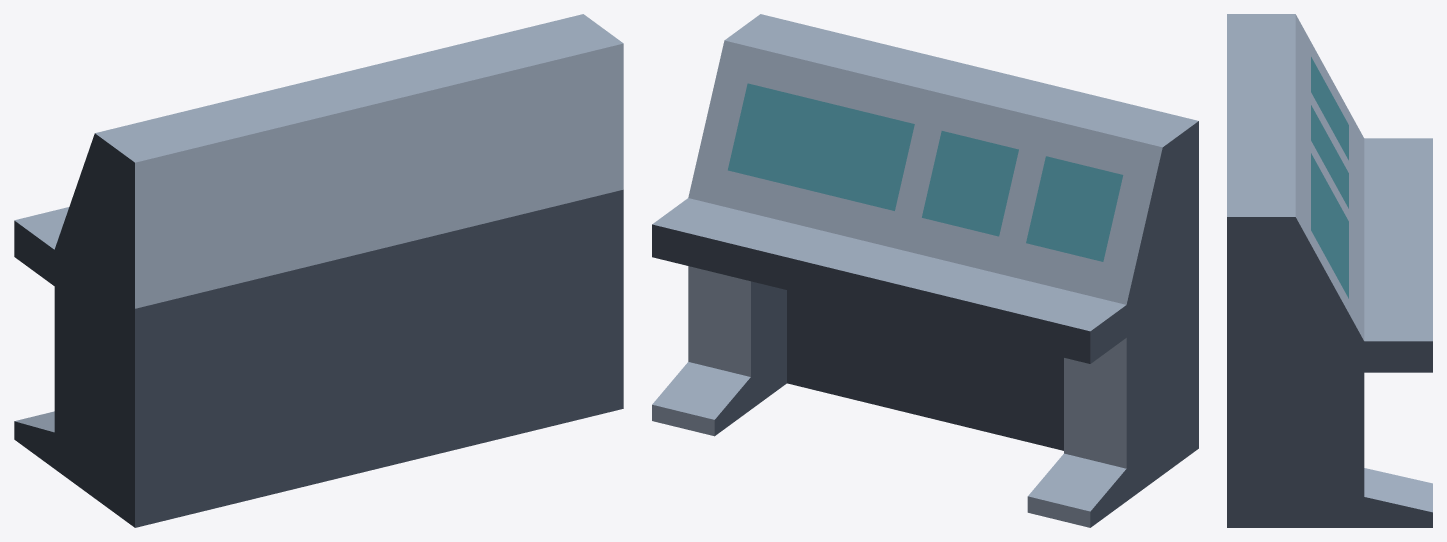
Rendered from desk_computer.glb.
3 renders of one model, left to right at view 1: azimuth 30°, elevation 25°; view 2: azimuth 150°, elevation 25°; view 3: azimuth 270°, elevation 25°, orthographic. The views are drawn at different scales.
Parts seen in each view (by area): view 1: desk_computer; view 2: desk_computer; view 3: desk_computer.
Boxes of the visible parts, x1,y1,x2,y2 form: desk_computer: (14, 14, 623, 527); desk_computer: (652, 14, 1198, 527); desk_computer: (1227, 14, 1432, 527).
Size of the model in its own units: 0.525 by 0.375 by 0.225.
